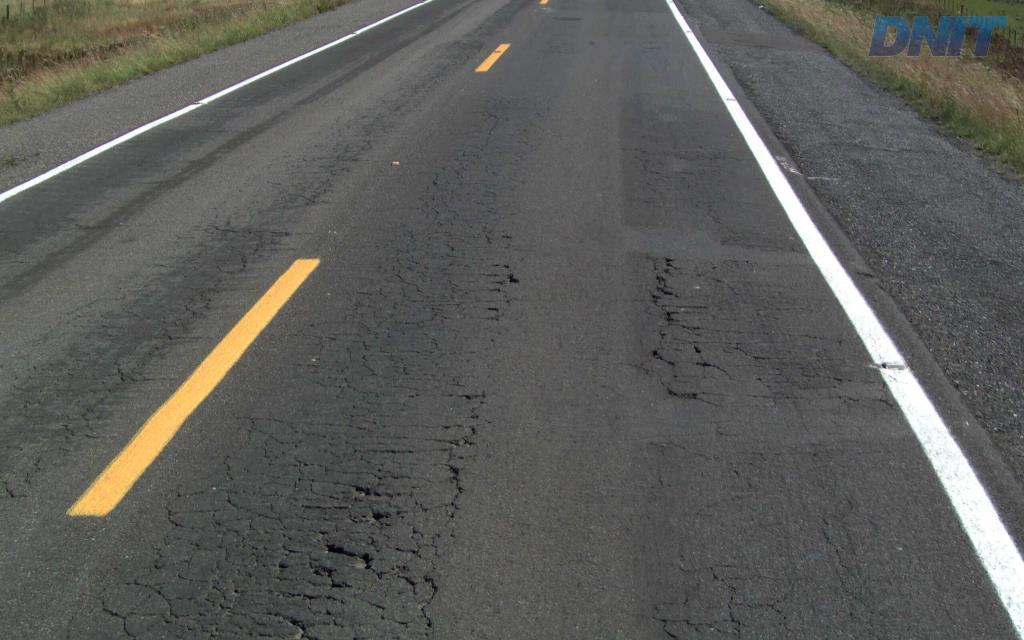crack: (316, 537, 387, 580), (295, 551, 352, 590)
